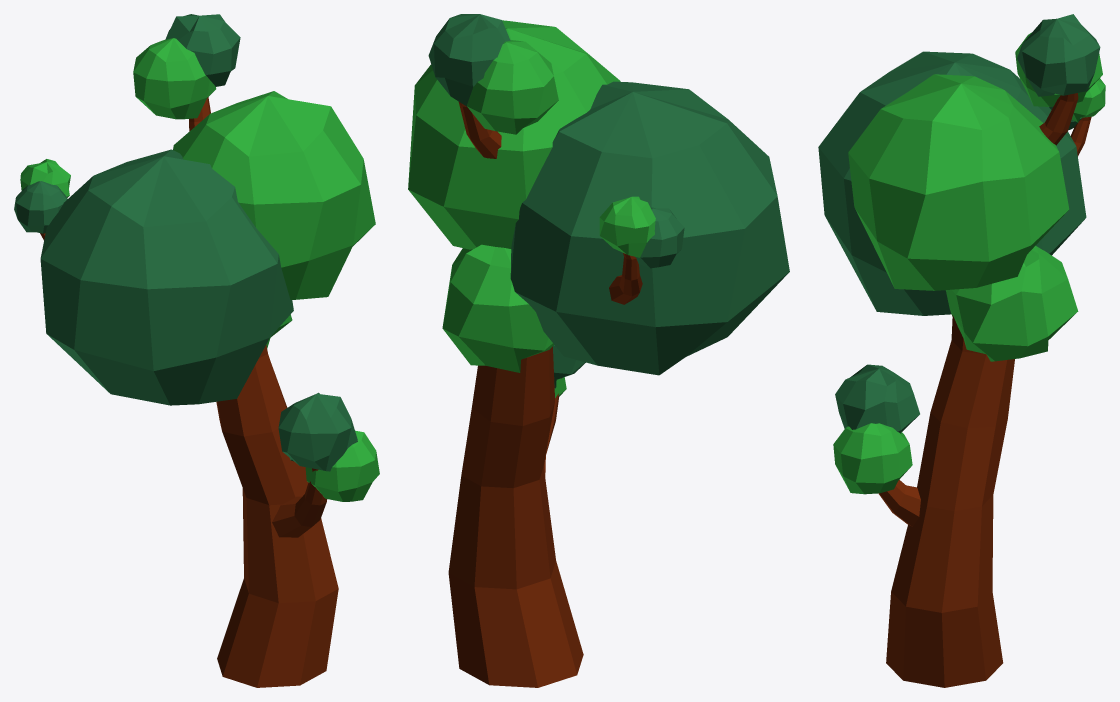
Rendered from tree_13.FBX.
3 views of the same model, side by side, from view 1: azimuth 30°, elevation 25°; view 2: azimuth 150°, elevation 25°; view 3: azimuth 270°, elevation 25° (orthographic). The views are drawn at different scales.
Parts seen in each view (by area): view 1: tree_13; view 2: tree_13; view 3: tree_13.
Boxes of the visible parts, <box> form: tree_13: <box>14,14,379,687</box>; tree_13: <box>408,14,789,687</box>; tree_13: <box>818,14,1105,687</box>.
Size of the model in its own units: 5.1 by 9.88 by 4.05.
Materials: 1 (1 with a texture image).
